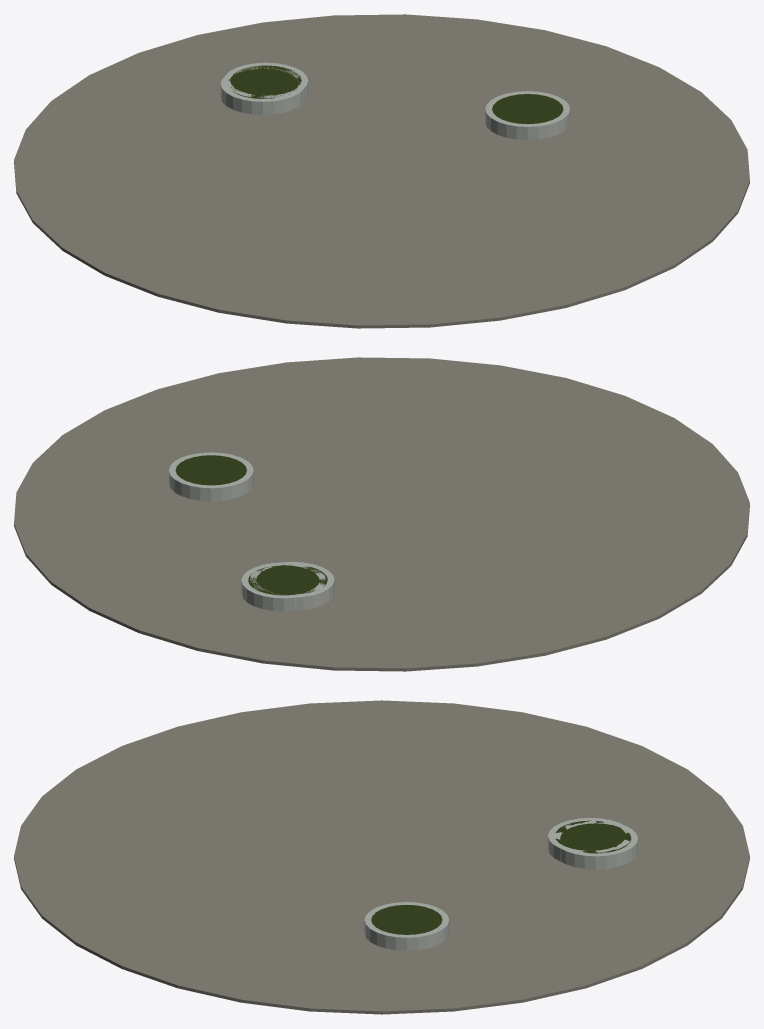
File: FluffSystem-02-Sport-03-SwimmingPool-1-03.glb
The picture shows the model from 3 angles, top to bottom: view 1: azimuth 30°, elevation 25°; view 2: azimuth 150°, elevation 25°; view 3: azimuth 270°, elevation 25°; orthographic projection.
Parts seen in each view (by area): view 1: FluffSystem-02-Sport-03-SwimmingPool-1-03; view 2: FluffSystem-02-Sport-03-SwimmingPool-1-03; view 3: FluffSystem-02-Sport-03-SwimmingPool-1-03.
Part boxes in pixels (box(x1,y1,x2,y2)): FluffSystem-02-Sport-03-SwimmingPool-1-03: box(14, 14, 749, 328); FluffSystem-02-Sport-03-SwimmingPool-1-03: box(14, 357, 749, 671); FluffSystem-02-Sport-03-SwimmingPool-1-03: box(14, 700, 749, 1014).
Bounding box in the file's own units: 66 × 1.6 × 66.
